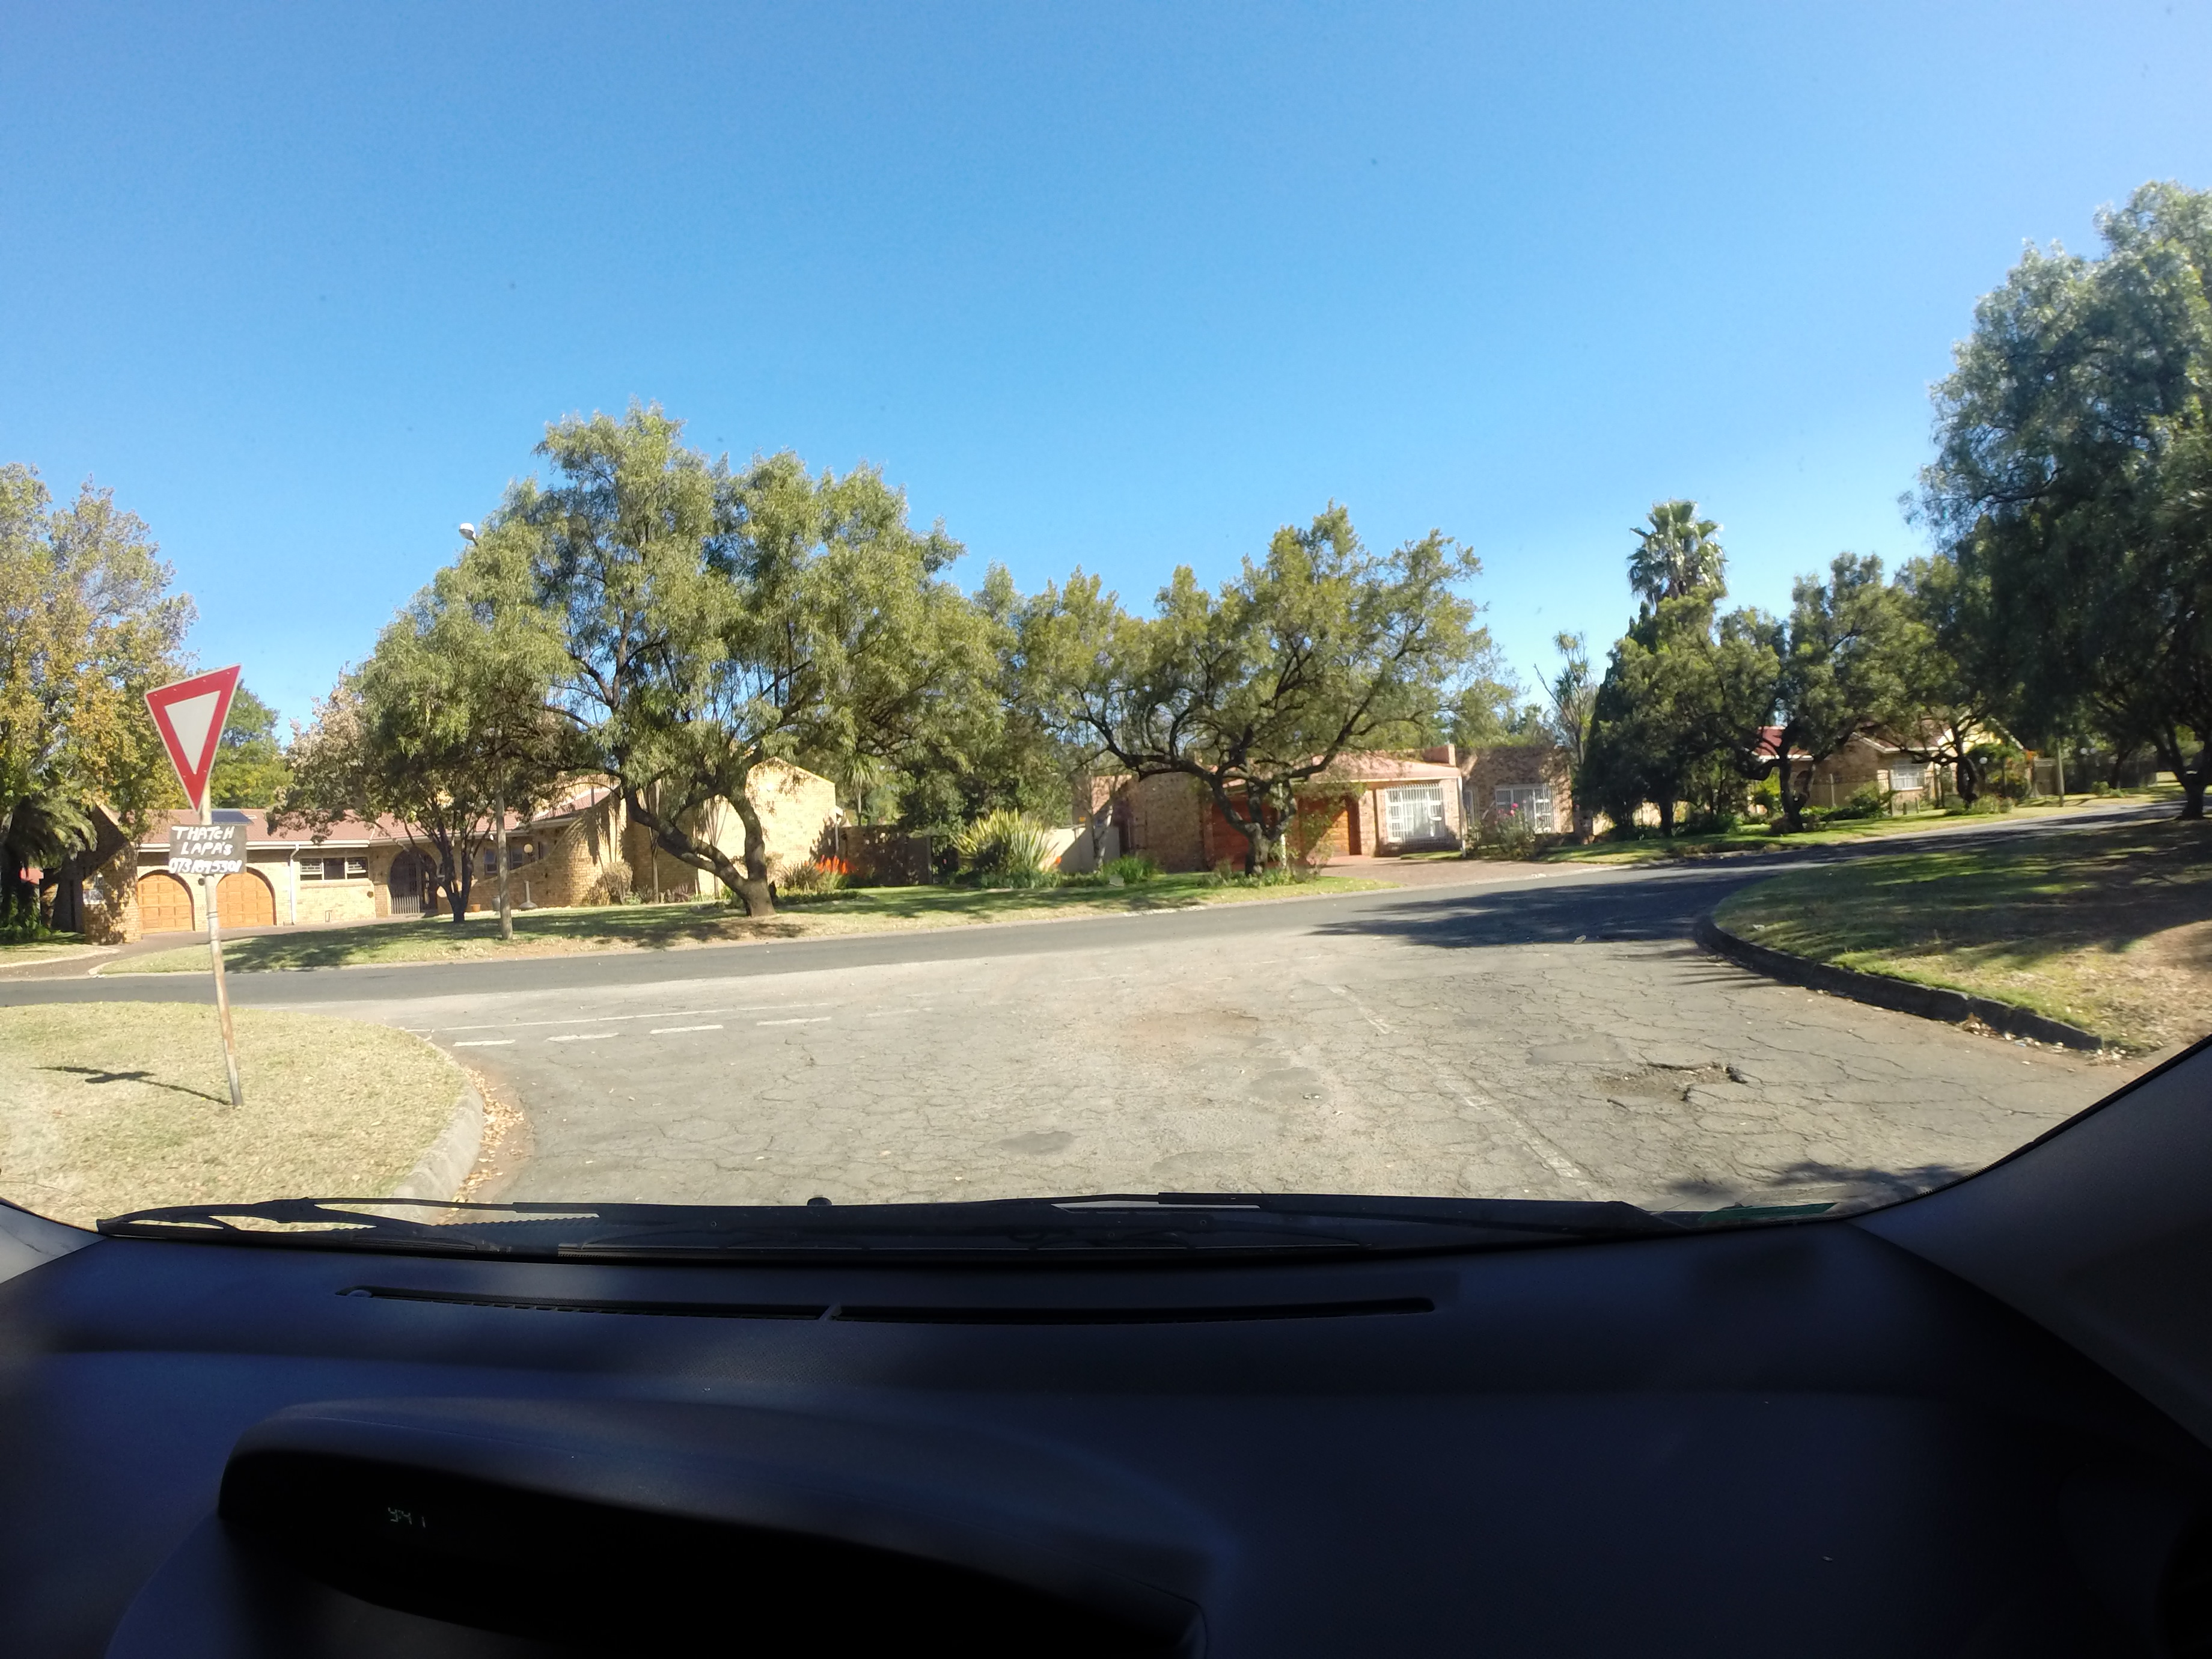pothole: (1615, 1019, 1831, 1155)
